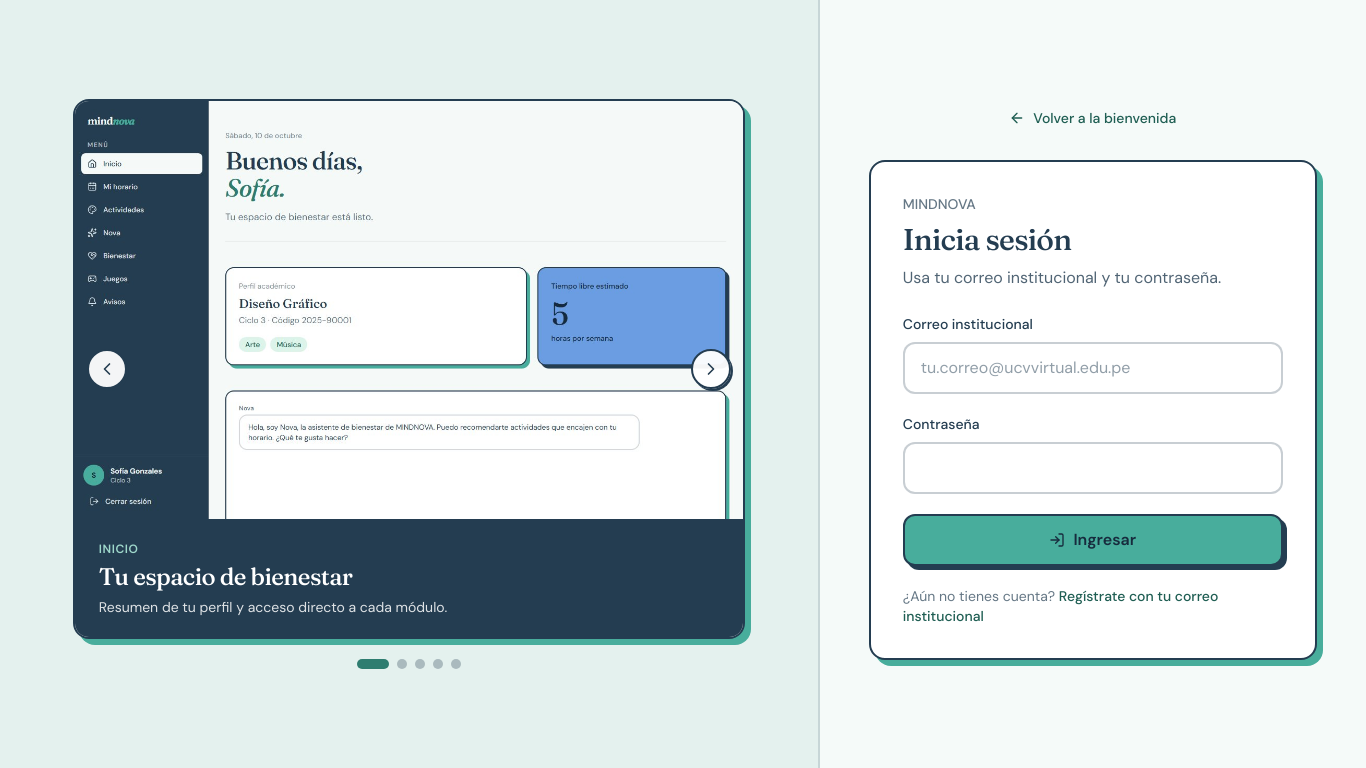
Test: Inicio de sesión › muestra el error del servidor si las credenciales no sirven
This screenshot has width=1366, height=768.
Type "ana@ucvvirtual.edu.pe" into the field labelled "Correo institucional" at (1093, 368), box [903,342,1283,394]
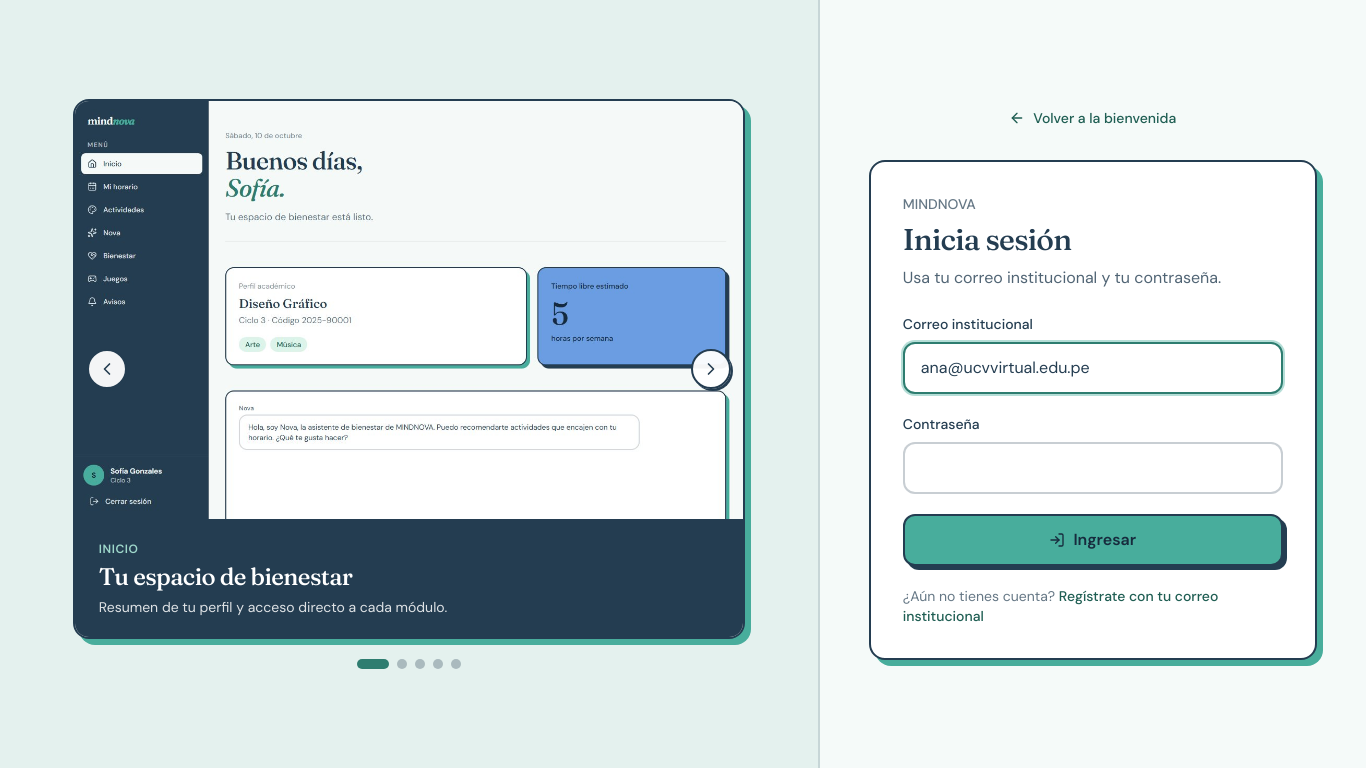
Type "otra-clave" into the password field labelled "Contraseña" at (1093, 468), box [903,442,1283,494]
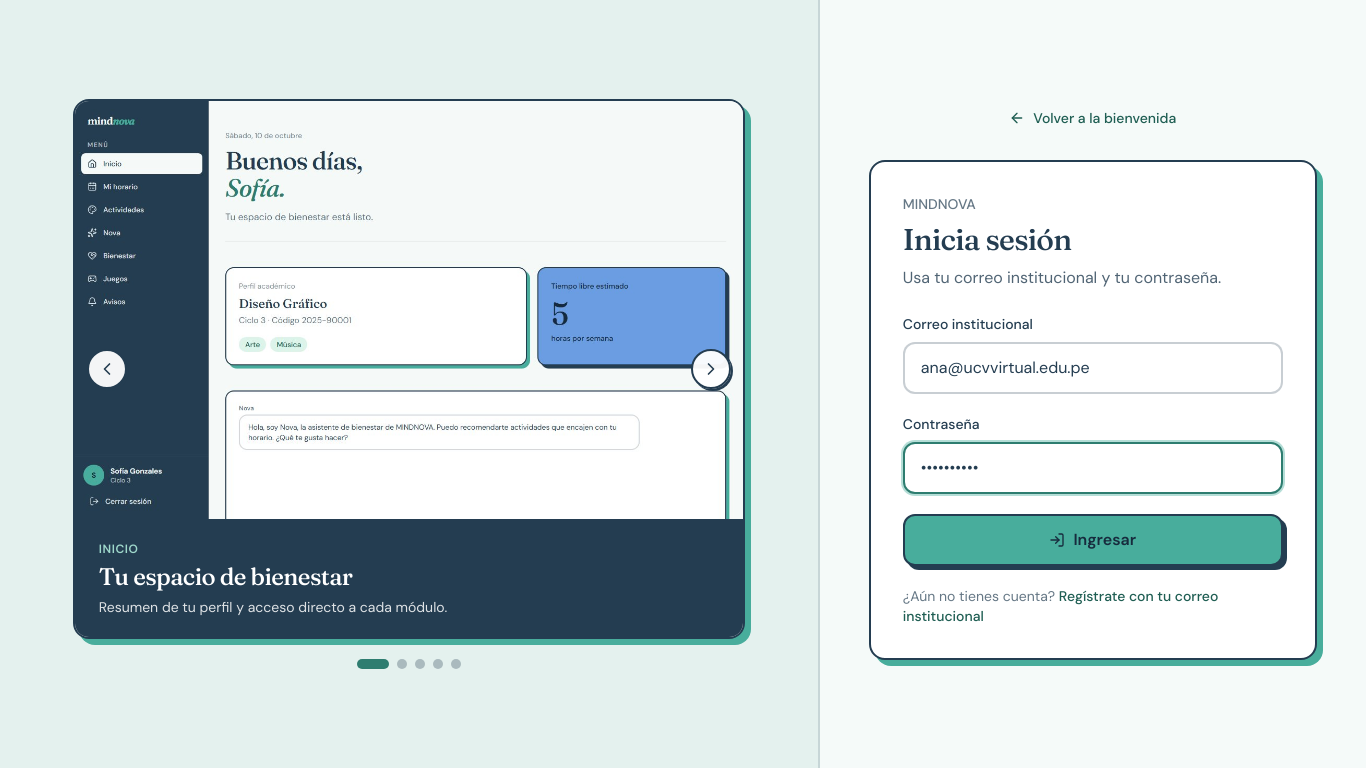
Click the button "Ingresar" at (1093, 540), box [903,514,1283,566]
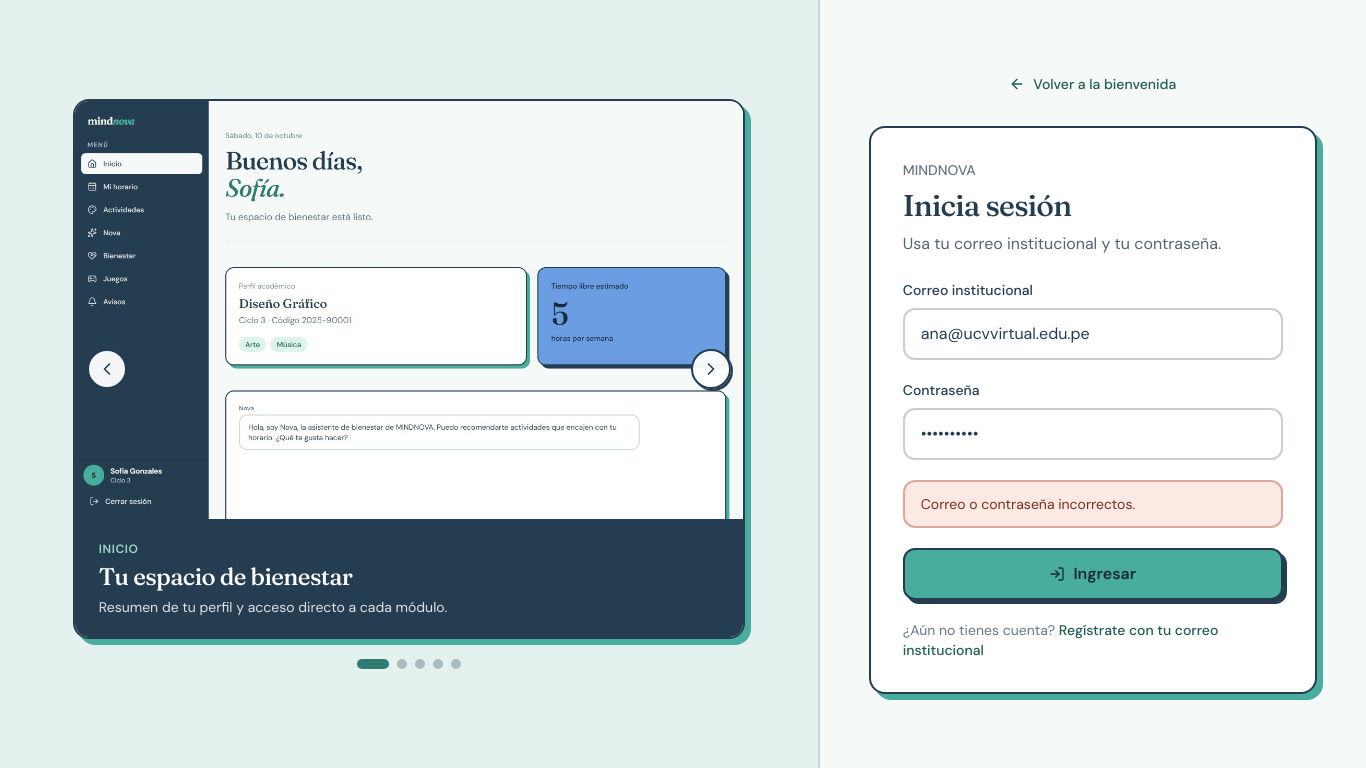
Check: the button "Ingresar" is enabled, box [903,548,1283,600]
Check: the message reads "Correo o contraseña incorrectos.", box [921,495,1135,513]
